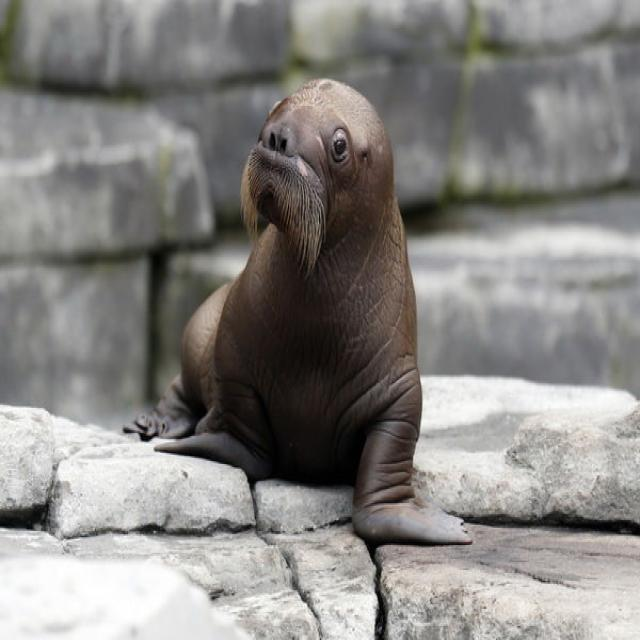walrus: (191, 0, 458, 545)
